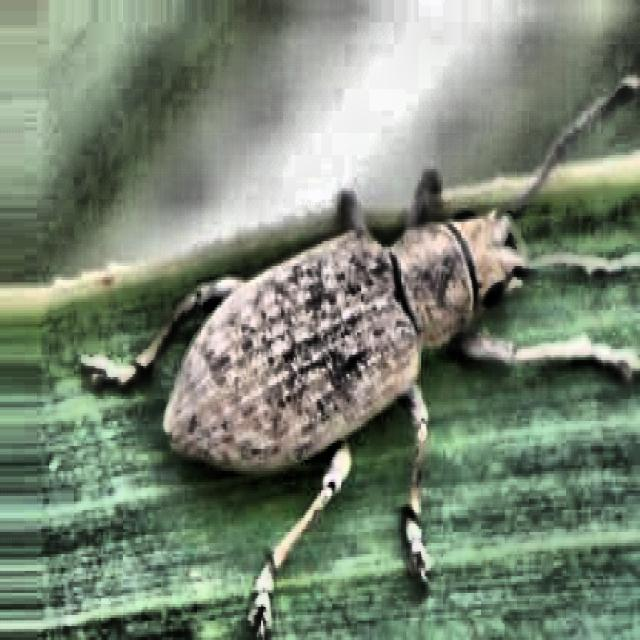Stink bug: (110, 133, 565, 549)
